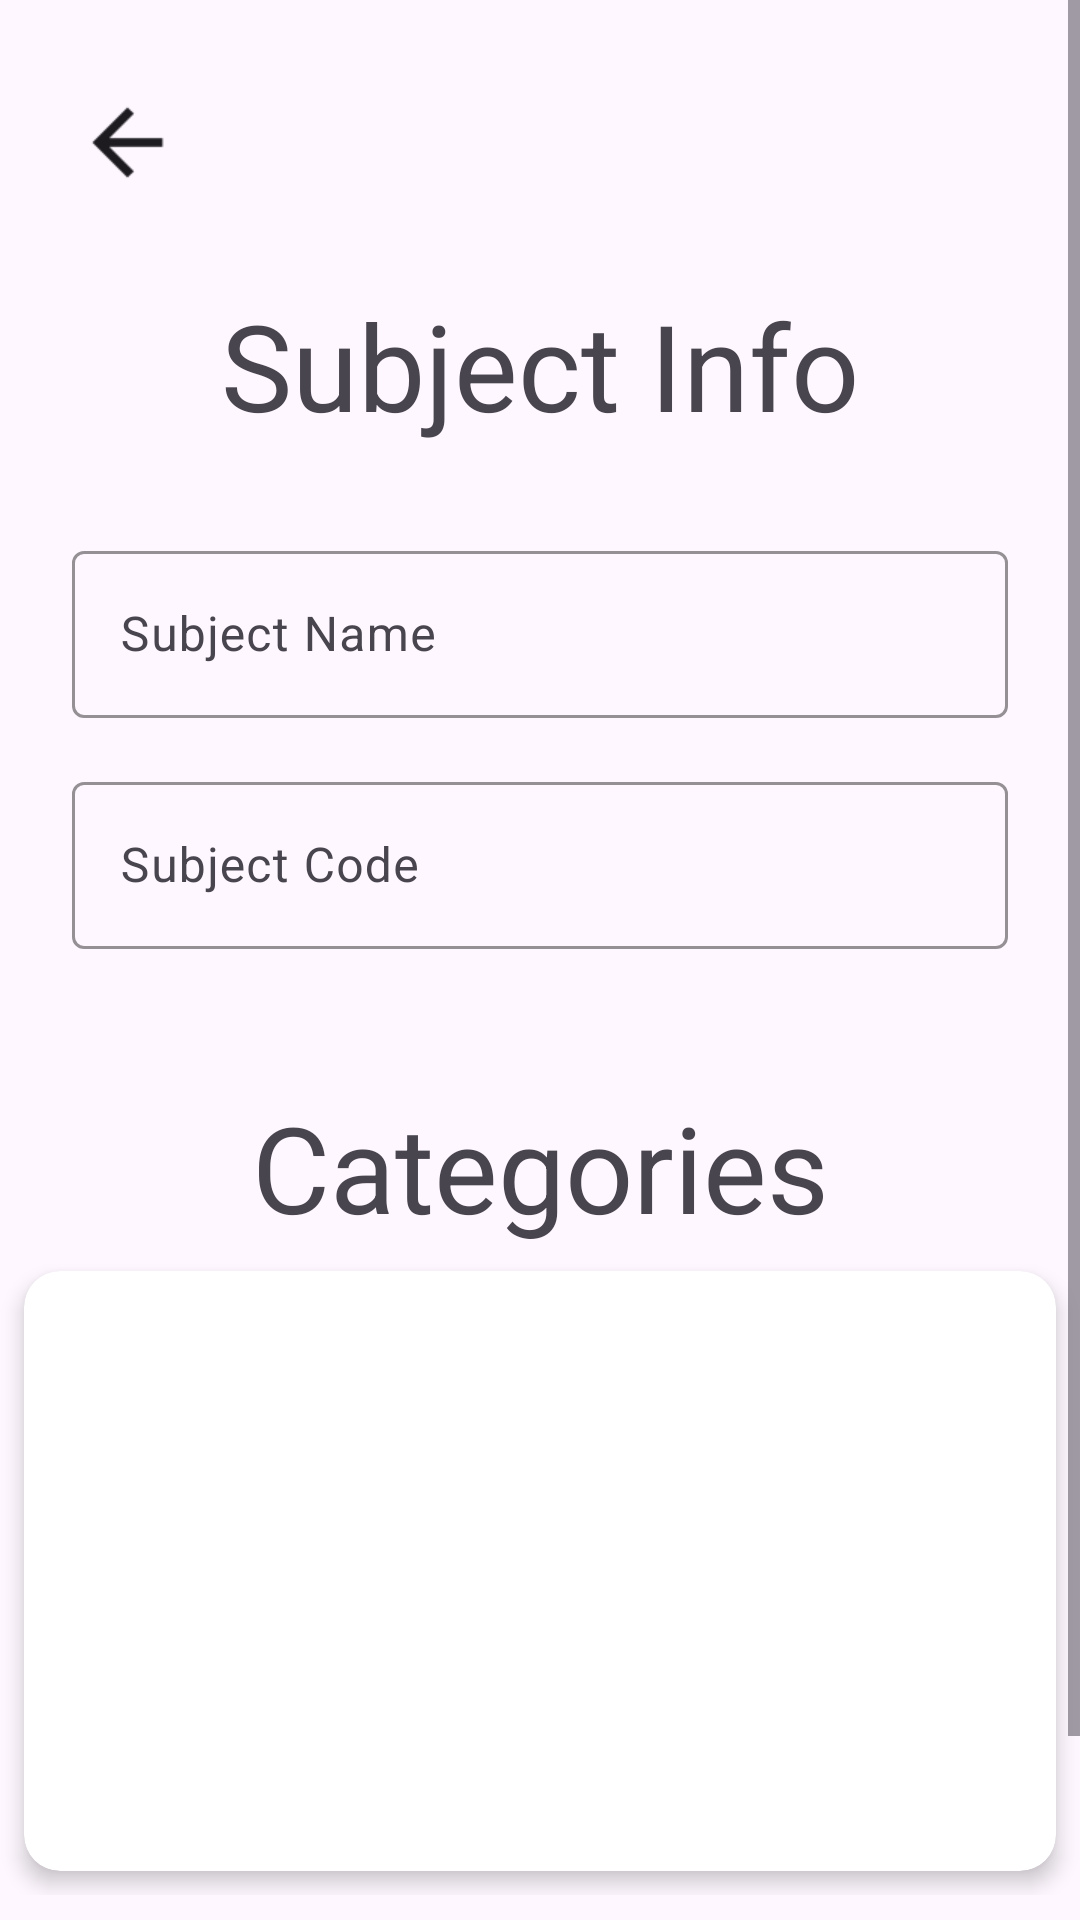

Named icons in this screenshot (1080w x 1920h) and their centers, (x=x, y=y):
back arrow: (x=128, y=142)
